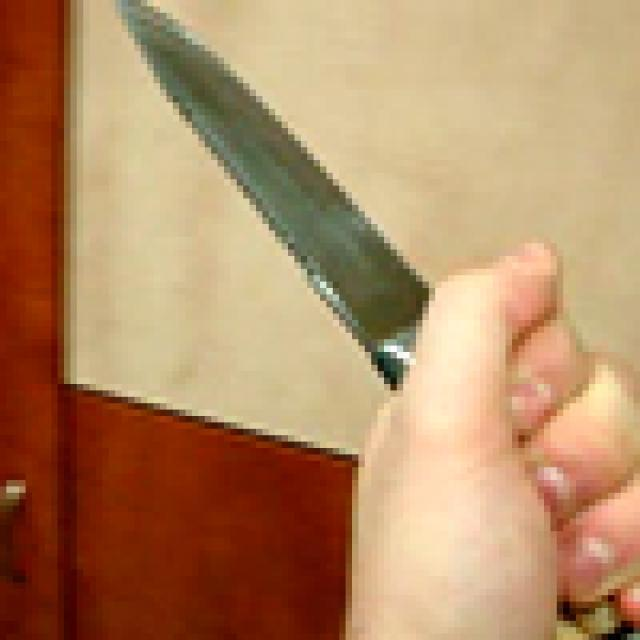Knife: (109, 0, 640, 621)
